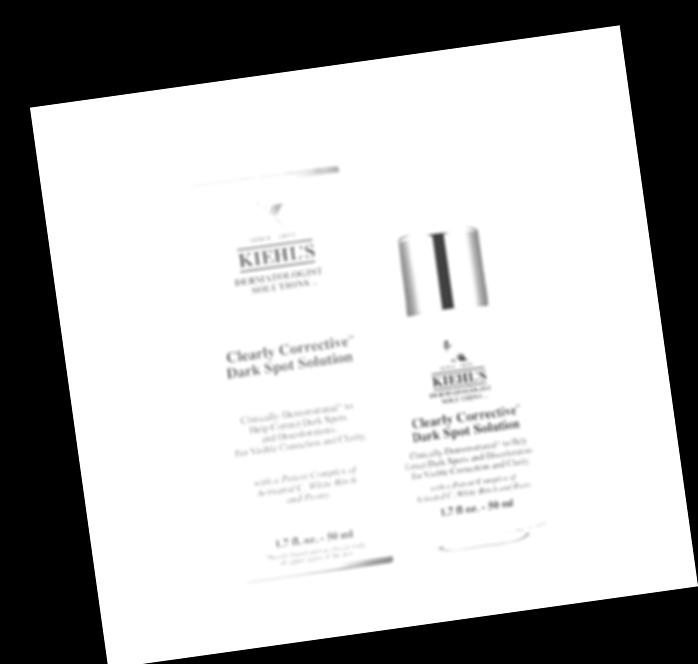cosmetic: (369, 153, 545, 543)
